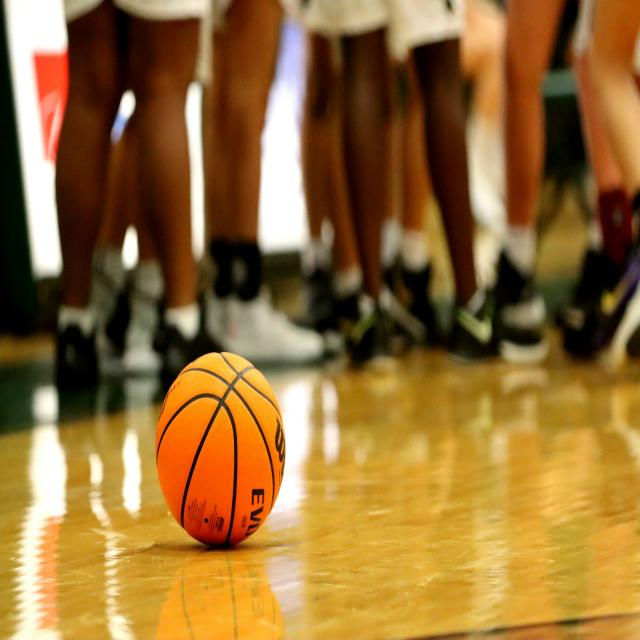Basketball: (155, 351, 286, 546)
